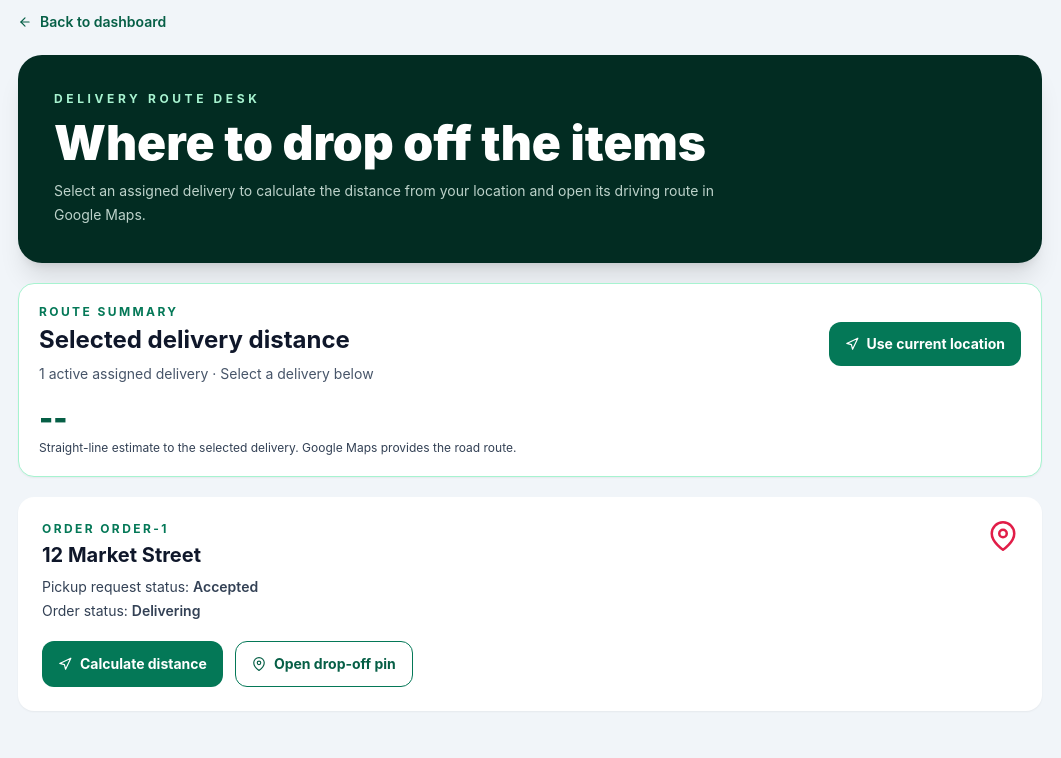
Scenario: selecting an assigned order calculates distance and opens its Google Maps route
Check: the heading "12 Market Street" is shown, box [42,543,201,567]
Click the button "Calculate distance" at (132, 664), box [42,641,223,687]
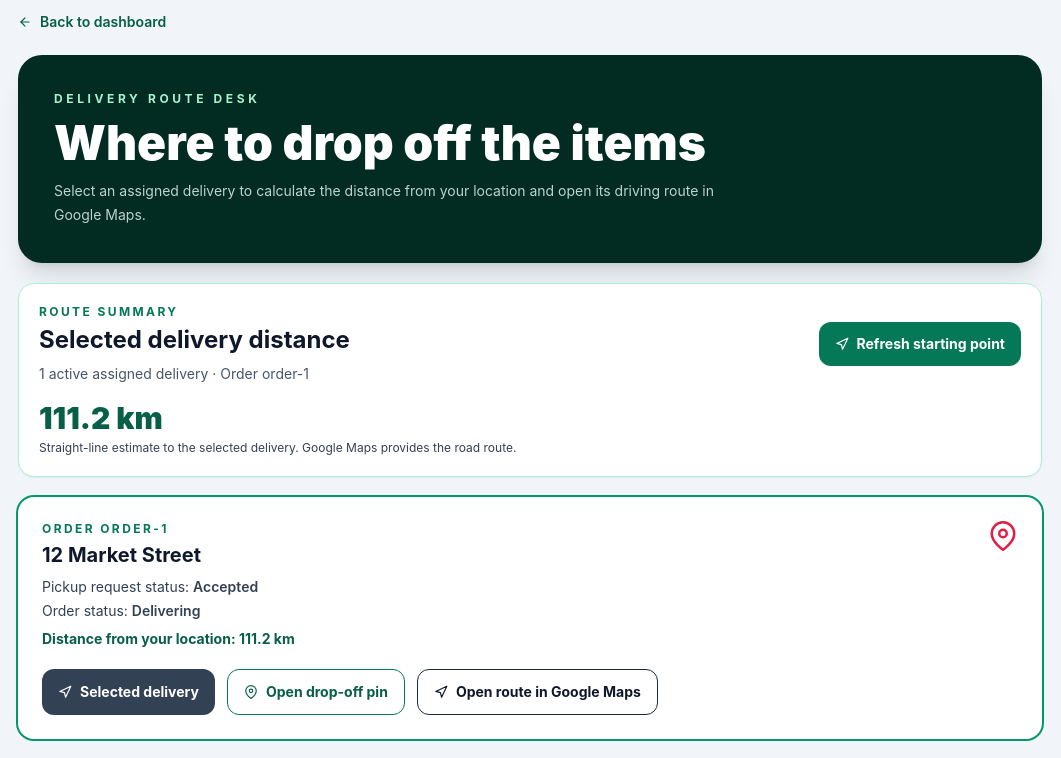
Check: the text "Distance from your location: 111.2 km" is shown, box [42,629,295,649]
